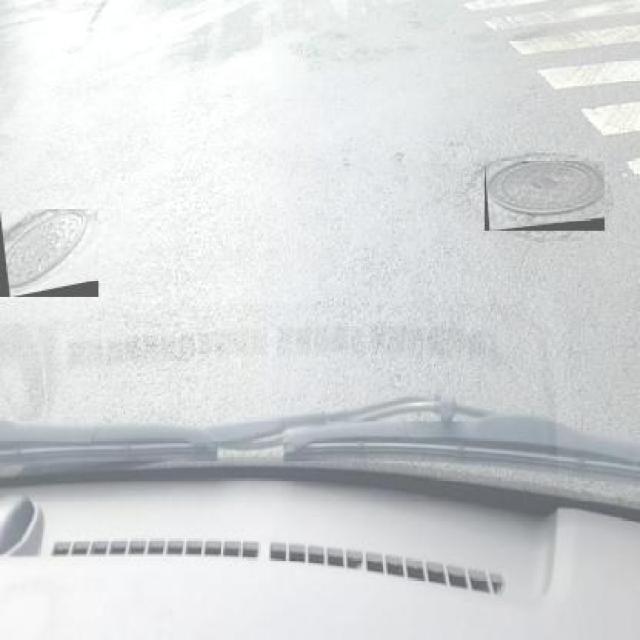Manhole: (484, 160, 604, 232), (0, 209, 98, 296)
